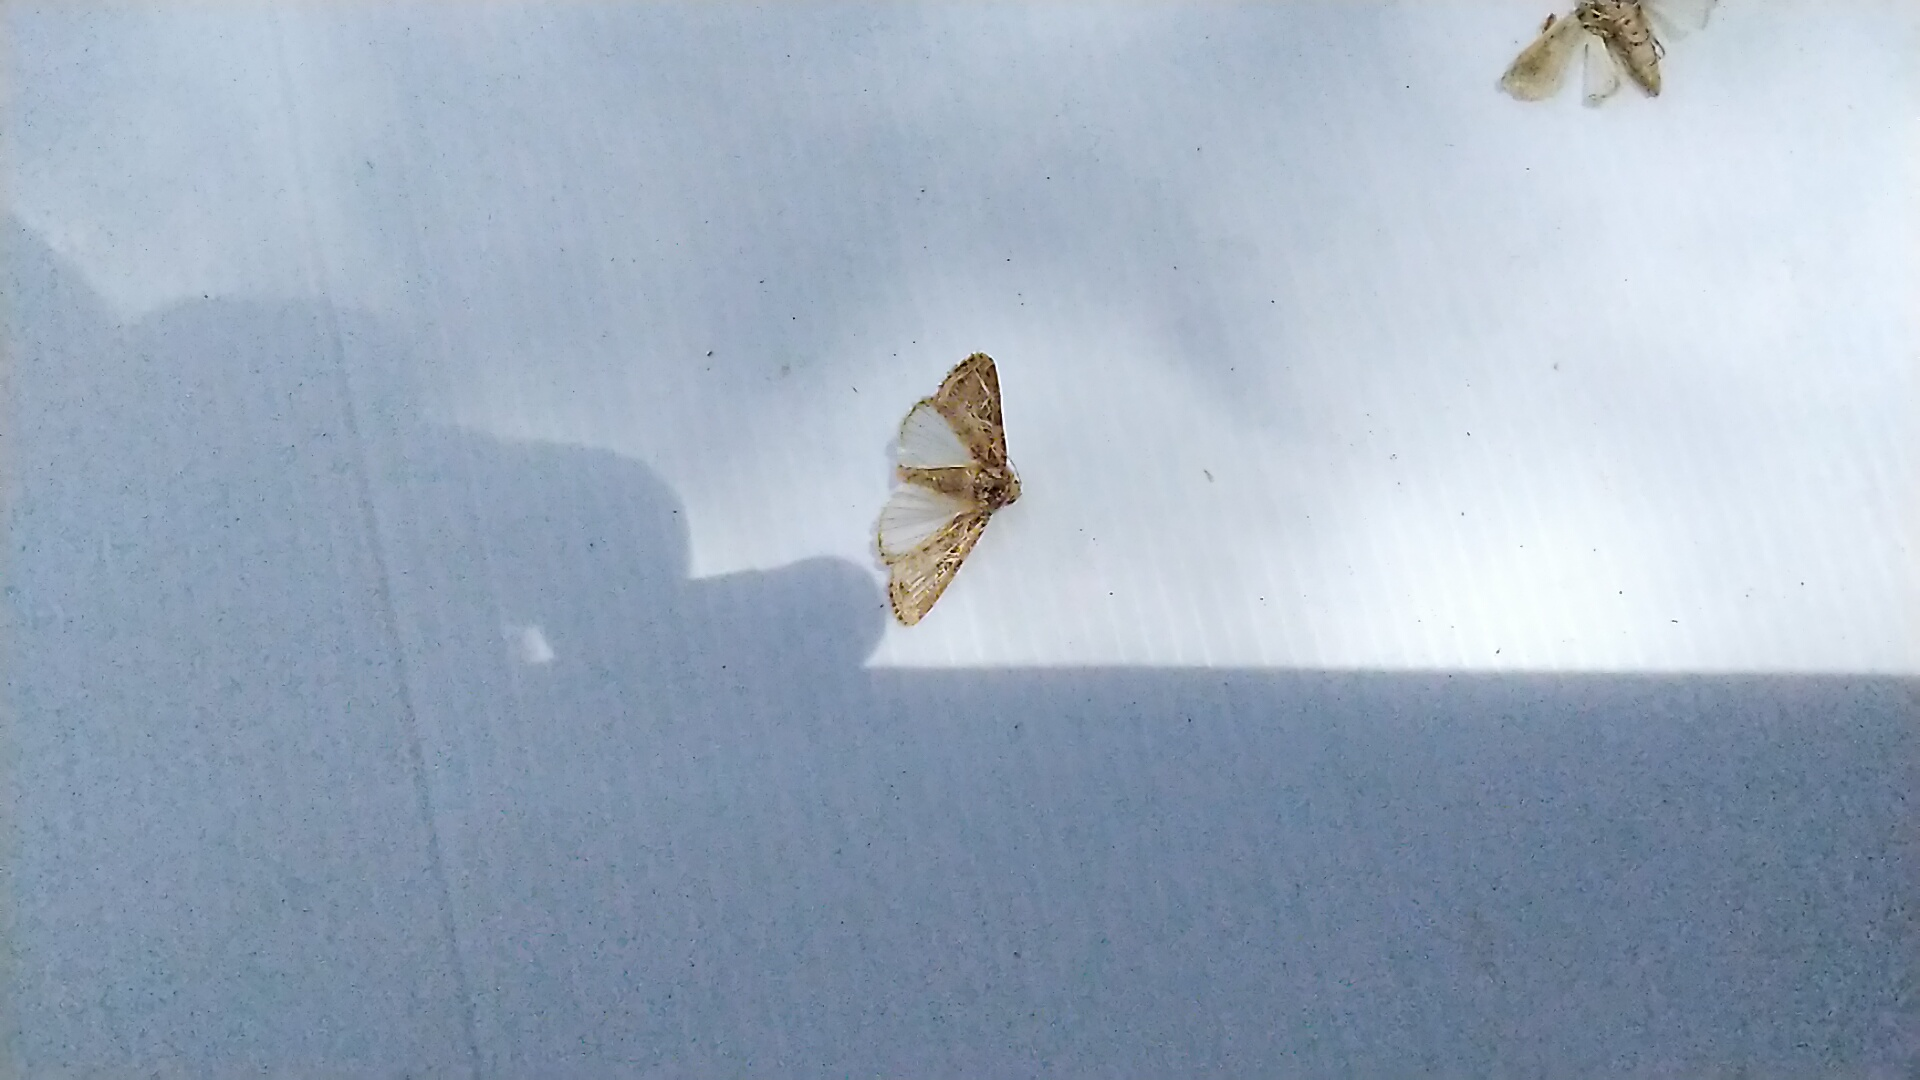INS-B: (847, 338, 1033, 638), (1476, 1, 1745, 113)
